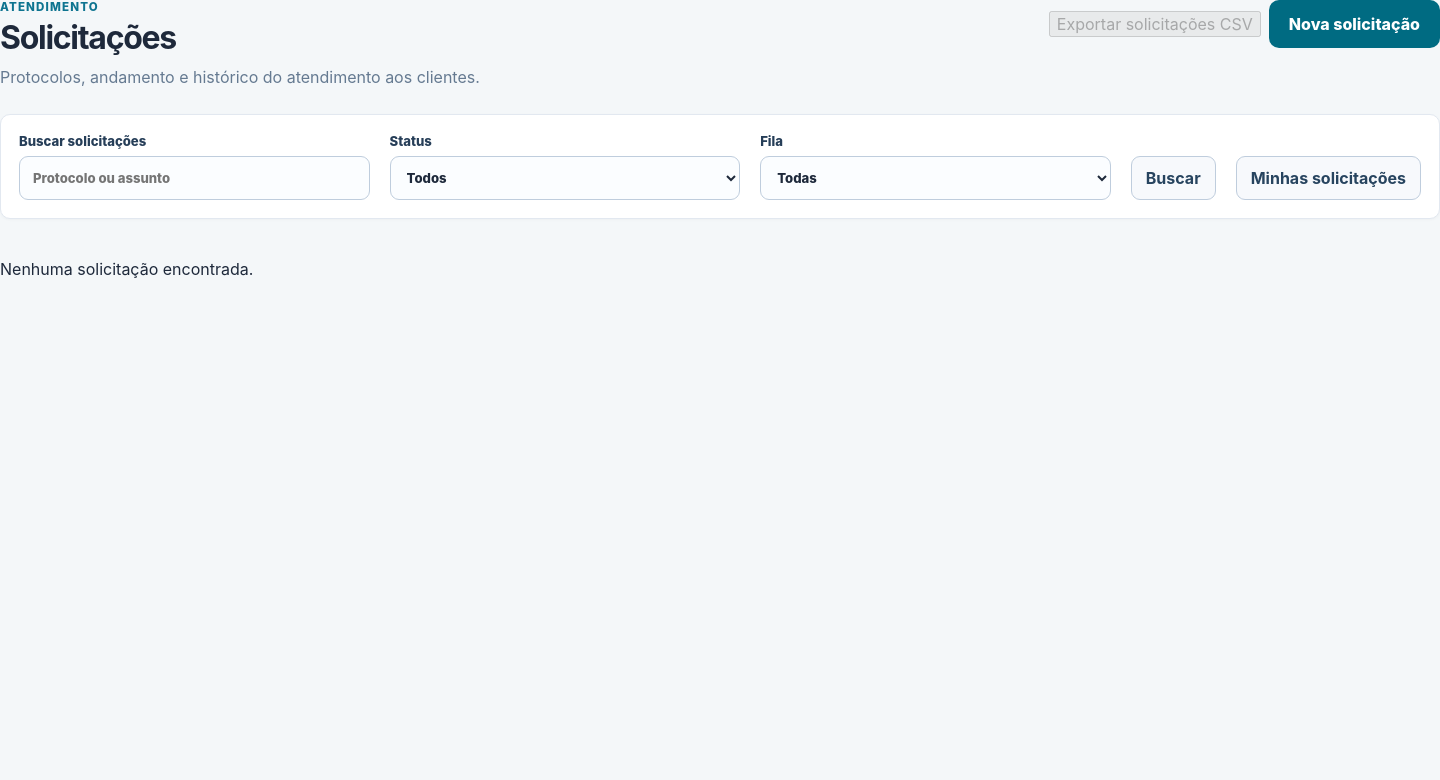
Scenario: C5.1 tickets view › lists tickets and opens a new one
Expected: the text "Nenhuma solicitação encontrada." is shown, [0,259,253,279]
Click the button "Nova solicitação" at (1354, 24), box [1269,0,1439,48]
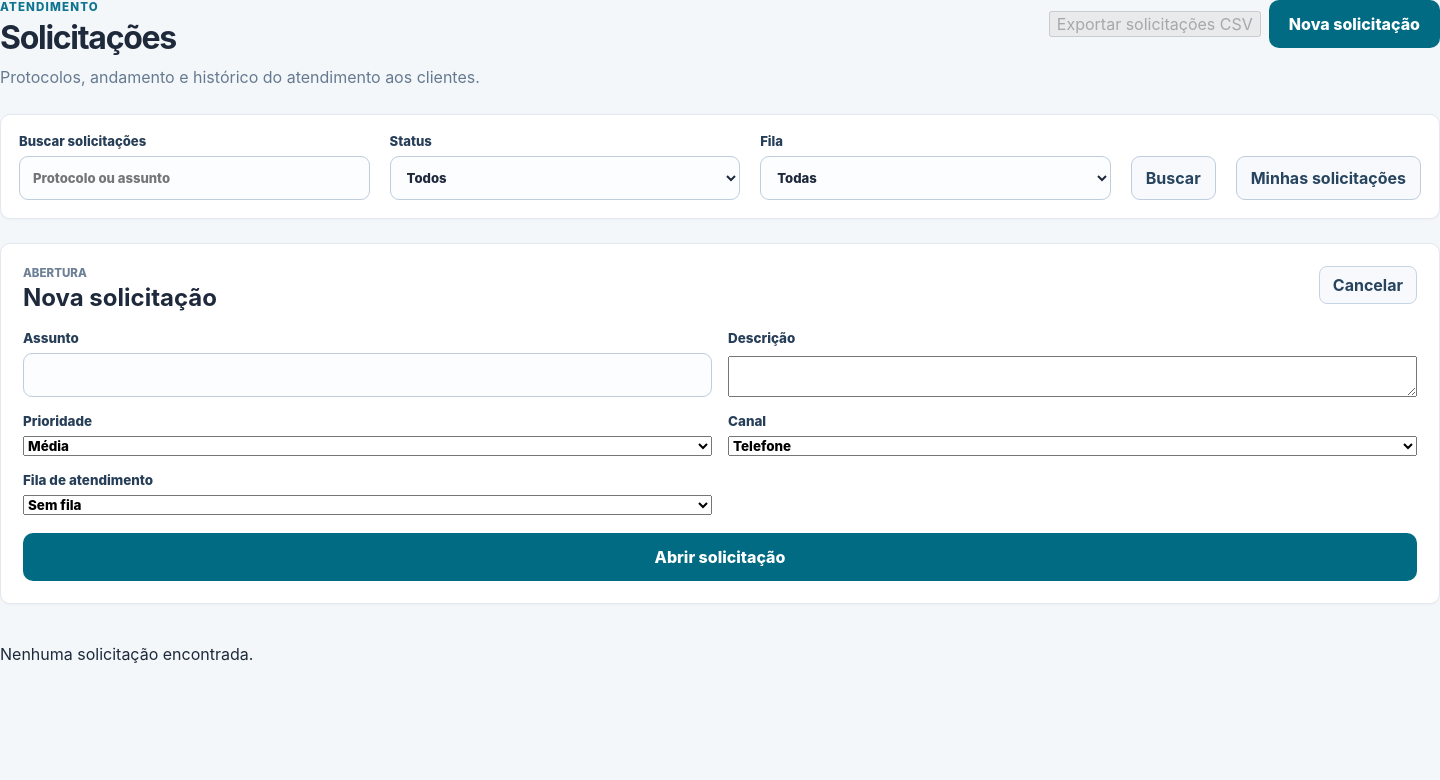
Type "Ramal sem áudio" into the field labelled "Assunto" at (368, 375), box [23,353,712,397]
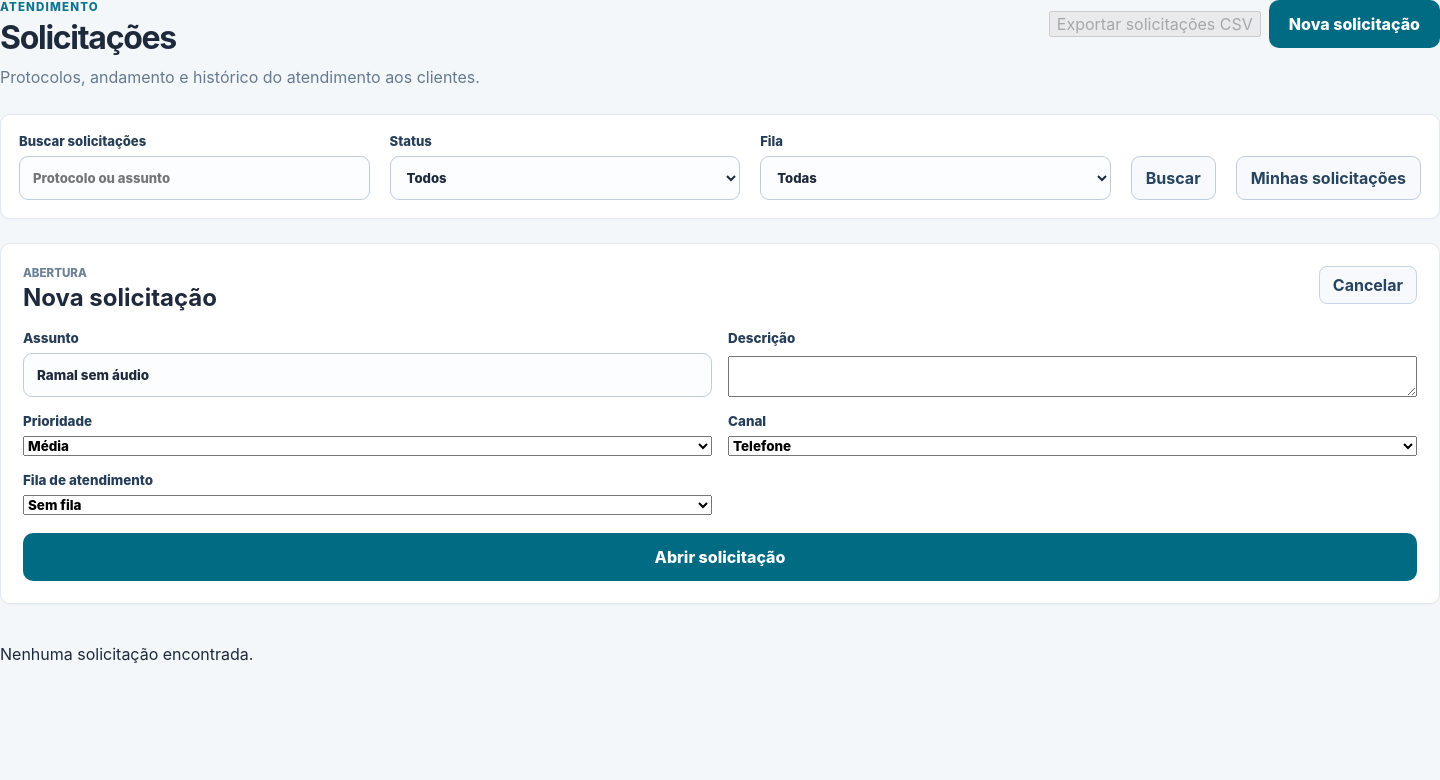
Select "Alta" in the dropdown labelled "Prioridade" at (368, 446), box [23,436,712,456]
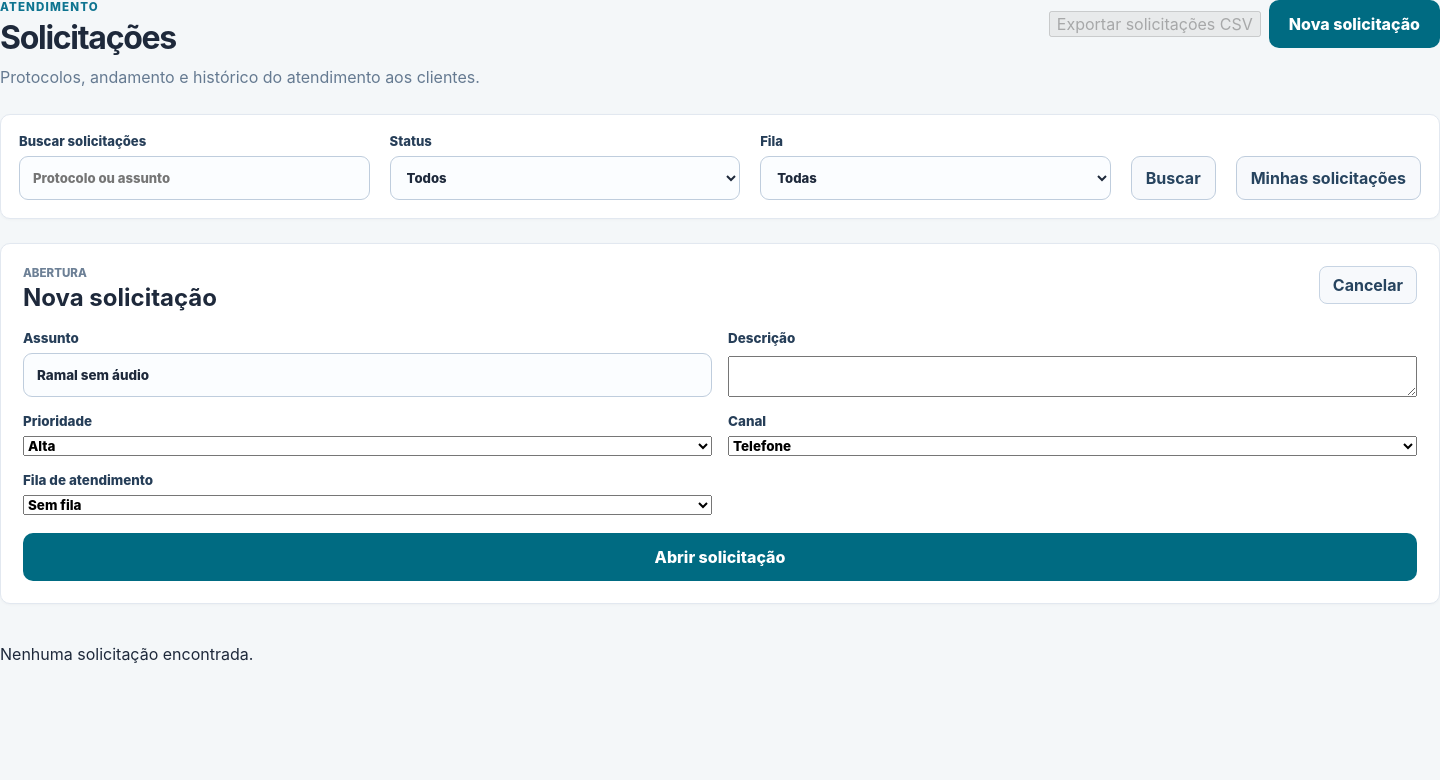
Click the button "Abrir solicitação" at (720, 557), box [23,533,1417,581]
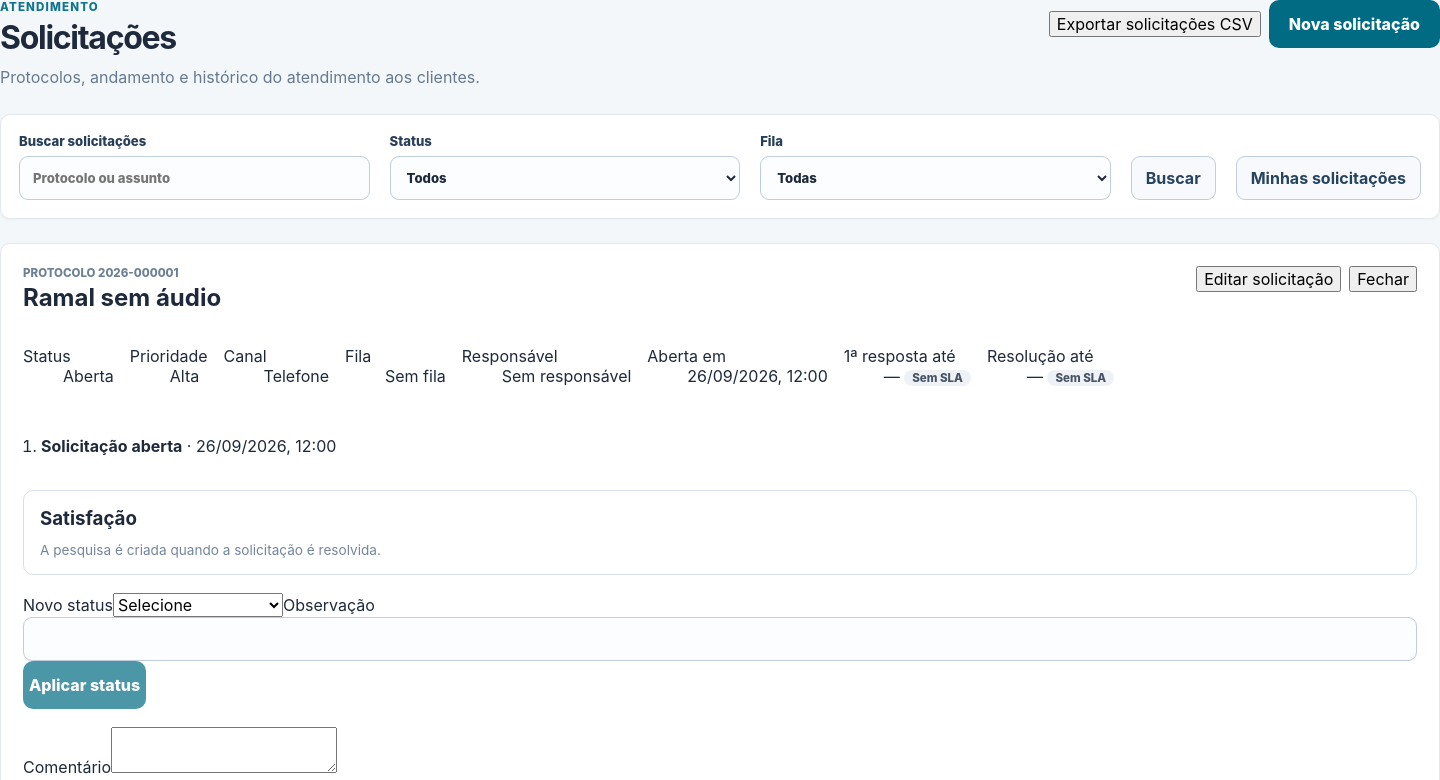
Now the text "Solicitação aberta" is shown, box [41,436,182,456]
